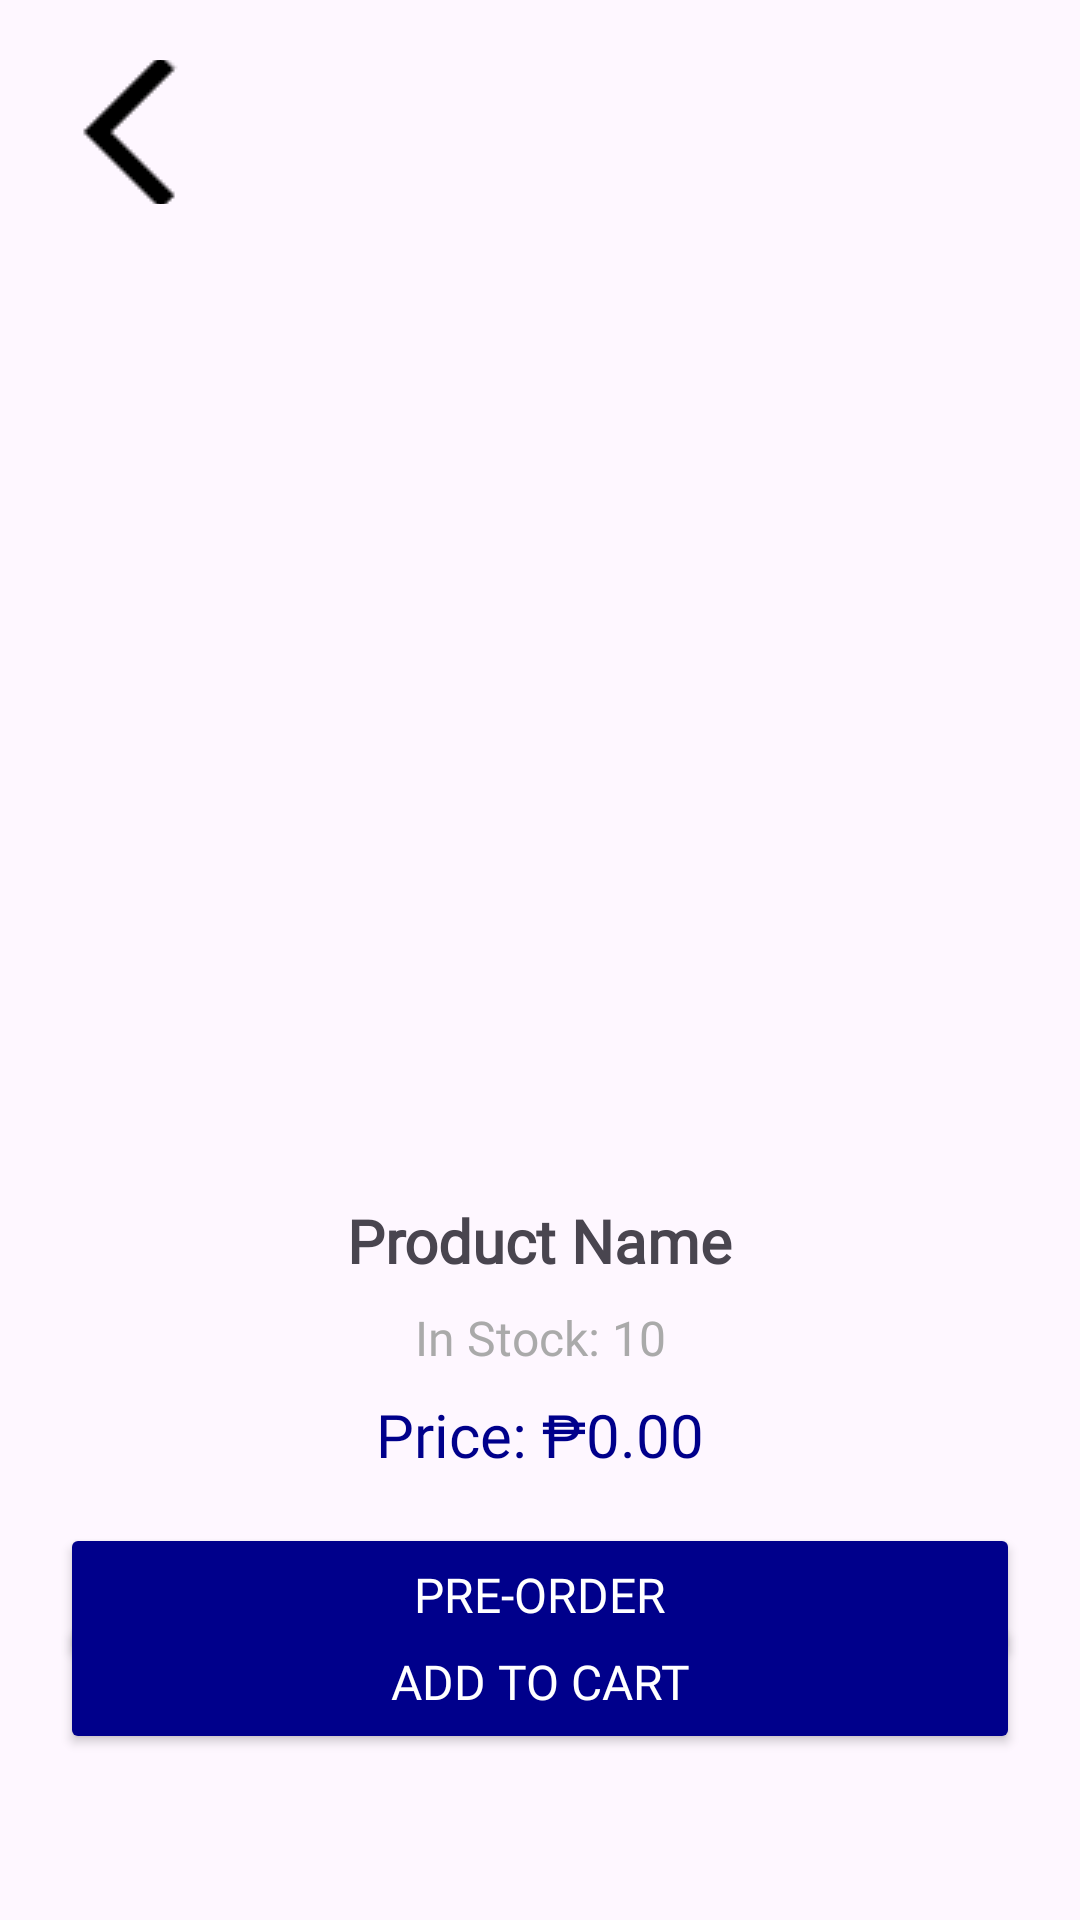

Icons on this 1080×1920 Android screen, each with the point to tap as [x,y]:
Back: [129,132]
